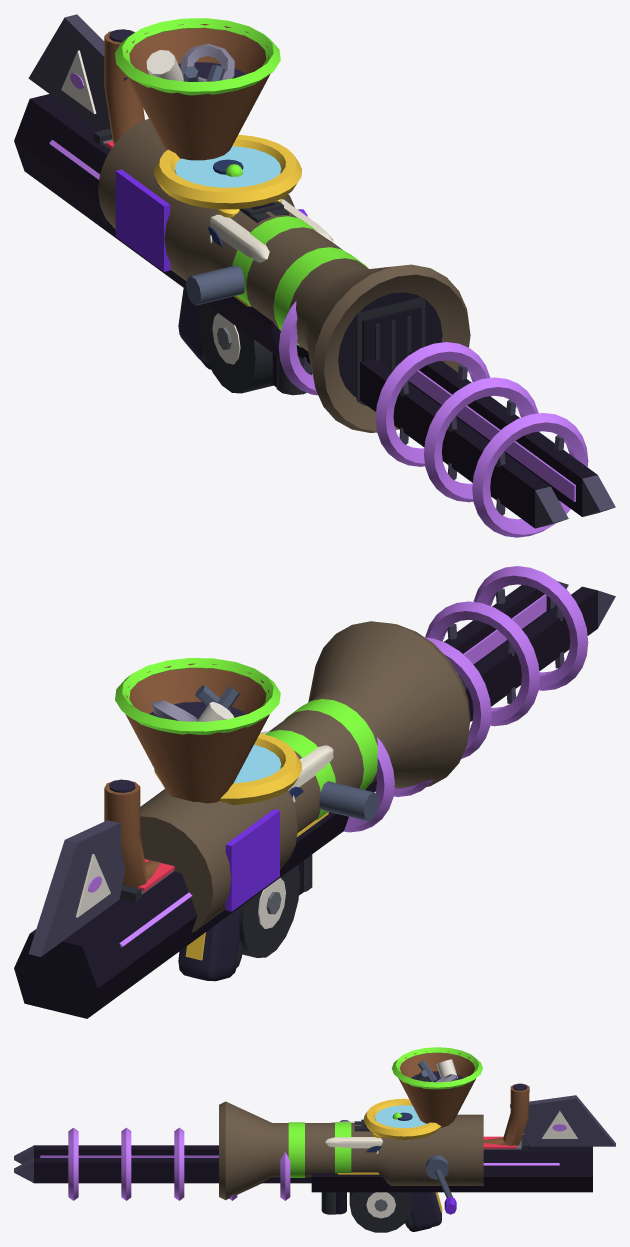
The model's file is weapons.glb.
3 renders of one model, top to bottom at view 1: azimuth 30°, elevation 25°; view 2: azimuth 150°, elevation 25°; view 3: azimuth 270°, elevation 25°, orthographic. The views are drawn at different scales.
Parts seen in each view (by area): view 1: wpn_pick_mortar_r_rust_i20, wpn_pick_rail_plasma, wpn_pick_rail_d_body_i12, wpn_pick_mortar_r_rust2_i15, wpn_pick_rail_d_body_i20, wpn_pick_mortar_r_green, wpn_pick_pulse_s_yellow_i12, wpn_pick_rail_d_panel_i12, wpn_pick_scatter_v_dark_i15, wpn_pick_mortar_r_violet_i12, wpn_pick_pulse_laser, wpn_pick_mortar_r_rust2_i12 (+13 smaller); view 2: wpn_pick_mortar_r_rust_i20, wpn_pick_rail_d_body_i20, wpn_pick_rail_plasma, wpn_pick_mortar_r_rust2_i15, wpn_pick_mortar_r_green, wpn_pick_rail_d_body_i12, wpn_pick_rail_d_panel_i12, wpn_pick_mortar_r_violet_i12, wpn_pick_mortar_r_rust2_i12, wpn_pick_scatter_v_dark_i15, wpn_pick_pulse_dark_i15, wpn_pick_pulse_s_yellow_i12 (+8 smaller); view 3: wpn_pick_mortar_r_rust_i20, wpn_pick_rail_d_body_i20, wpn_pick_rail_d_body_i12, wpn_pick_rail_plasma, wpn_pick_rail_d_panel_i12, wpn_pick_mortar_r_rust2_i15, wpn_pick_mortar_r_green, wpn_pick_scatter_v_dark_i15, wpn_pick_pulse_s_yellow_i12, wpn_pick_mortar_r_rust2_i12, wpn_pick_pulse_dark_i15, wpn_pick_pulse_laser (+8 smaller).
Boxes of the visible parts, left/top/right/bottom form: wpn_pick_mortar_r_rust_i20: left=98, top=118, right=470, bottom=432; wpn_pick_rail_plasma: left=49, top=73, right=588, bottom=537; wpn_pick_rail_d_body_i12: left=251, top=202, right=597, bottom=528; wpn_pick_mortar_r_rust2_i15: left=125, top=24, right=269, bottom=160; wpn_pick_rail_d_body_i20: left=14, top=94, right=280, bottom=357; wpn_pick_mortar_r_green: left=115, top=18, right=367, bottom=347; wpn_pick_pulse_s_yellow_i12: left=154, top=134, right=302, bottom=217; wpn_pick_rail_d_panel_i12: left=28, top=14, right=127, bottom=130; wpn_pick_scatter_v_dark_i15: left=198, top=296, right=425, bottom=405; wpn_pick_mortar_r_violet_i12: left=115, top=169, right=170, bottom=271; wpn_pick_pulse_laser: left=175, top=146, right=281, bottom=187; wpn_pick_mortar_r_rust2_i12: left=104, top=30, right=144, bottom=143; wpn_pick_mortar_r_rust_i20: left=140, top=621, right=470, bottom=932; wpn_pick_rail_d_body_i20: left=14, top=812, right=348, bottom=1018; wpn_pick_rail_plasma: left=88, top=566, right=588, bottom=947; wpn_pick_mortar_r_rust2_i15: left=125, top=663, right=269, bottom=803; wpn_pick_mortar_r_green: left=115, top=658, right=377, bottom=819; wpn_pick_rail_d_body_i12: left=298, top=585, right=597, bottom=895; wpn_pick_rail_d_panel_i12: left=28, top=820, right=125, bottom=956; wpn_pick_mortar_r_violet_i12: left=225, top=809, right=279, bottom=911; wpn_pick_mortar_r_rust2_i12: left=104, top=780, right=213, bottom=888; wpn_pick_scatter_v_dark_i15: left=234, top=865, right=299, bottom=969; wpn_pick_pulse_dark_i15: left=178, top=907, right=240, bottom=980; wpn_pick_pulse_s_yellow_i12: left=154, top=733, right=302, bottom=804; wpn_pick_mortar_r_rust_i20: left=219, top=1101, right=483, bottom=1200; wpn_pick_rail_d_body_i20: left=311, top=1144, right=592, bottom=1192; wpn_pick_rail_d_body_i12: left=34, top=1123, right=366, bottom=1214; wpn_pick_rail_plasma: left=40, top=1124, right=566, bottom=1200; wpn_pick_rail_d_panel_i12: left=510, top=1095, right=615, bottom=1146; wpn_pick_mortar_r_rust2_i15: left=398, top=1051, right=475, bottom=1127; wpn_pick_mortar_r_green: left=288, top=1047, right=482, bottom=1177; wpn_pick_scatter_v_dark_i15: left=349, top=1192, right=414, bottom=1232; wpn_pick_pulse_s_yellow_i12: left=363, top=1098, right=440, bottom=1139; wpn_pick_mortar_r_rust2_i12: left=445, top=1084, right=529, bottom=1145; wpn_pick_pulse_dark_i15: left=410, top=1192, right=441, bottom=1229; wpn_pick_pulse_laser: left=375, top=1105, right=426, bottom=1127.
Size of the model in its own units: 0.395 by 0.5494 by 1.82.
